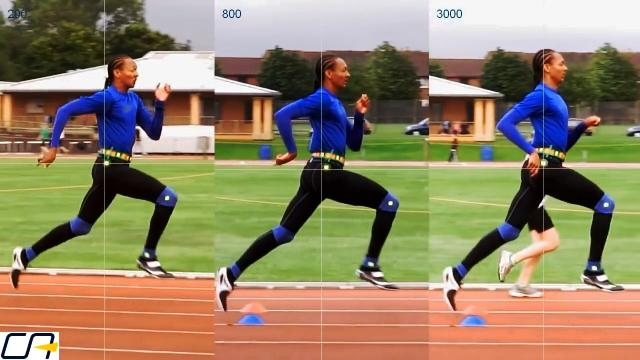berlari: (439, 49, 623, 311), (218, 48, 396, 308), (10, 50, 176, 307)
